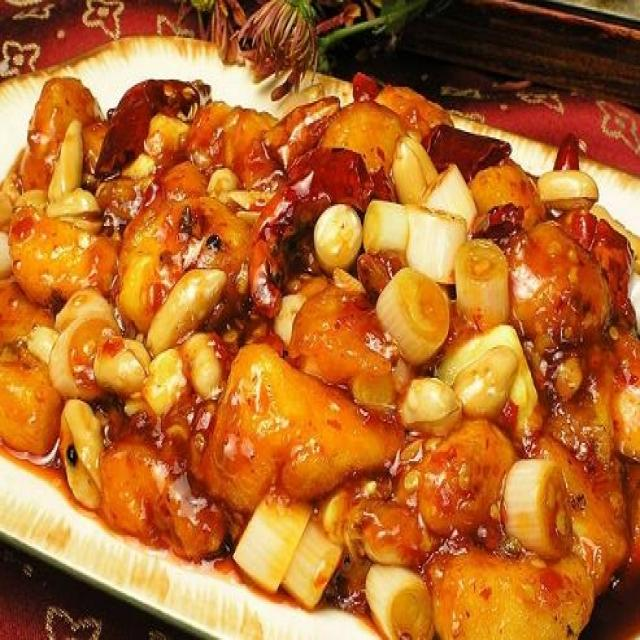鸡肉料理 含炸鸡: (12, 40, 623, 624)
